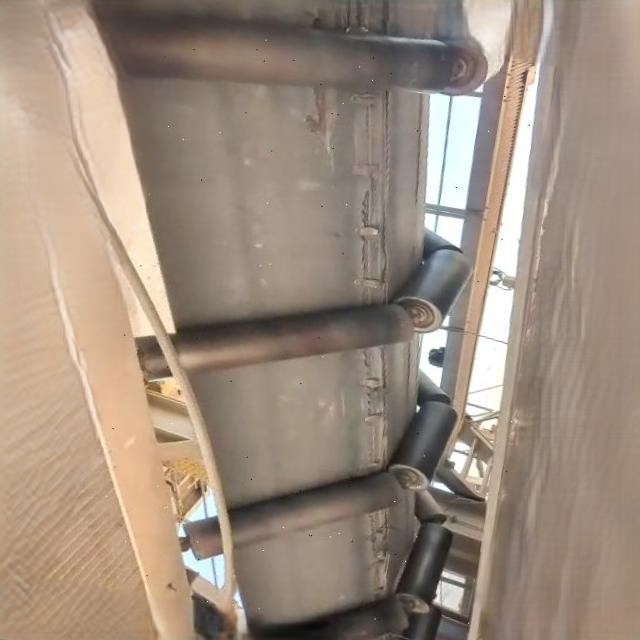Tear: (301, 88, 398, 302), (348, 346, 396, 474), (296, 0, 414, 41), (364, 502, 404, 604)
Wear: (300, 88, 338, 166)
